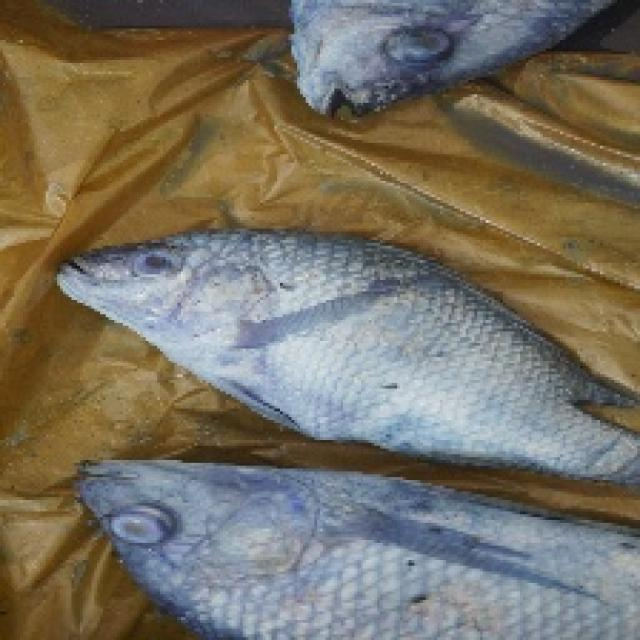Non-Fresh: (54, 221, 544, 434), (72, 459, 527, 640), (358, 20, 473, 76)
